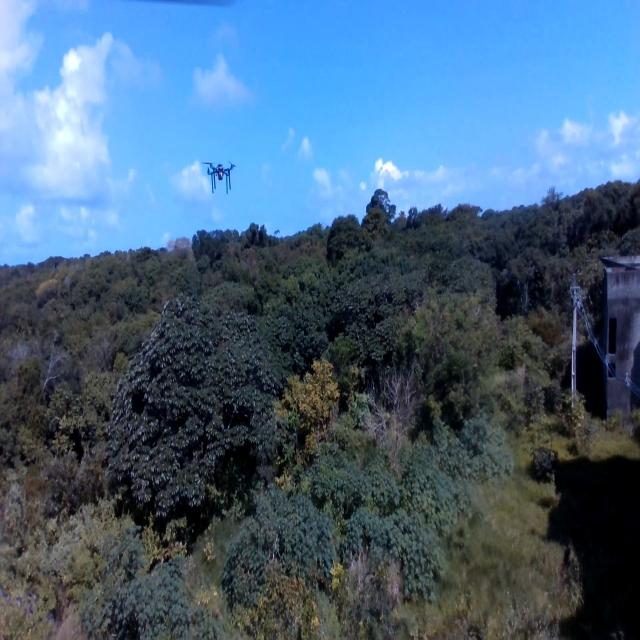-uav-: (202, 154, 242, 203)
